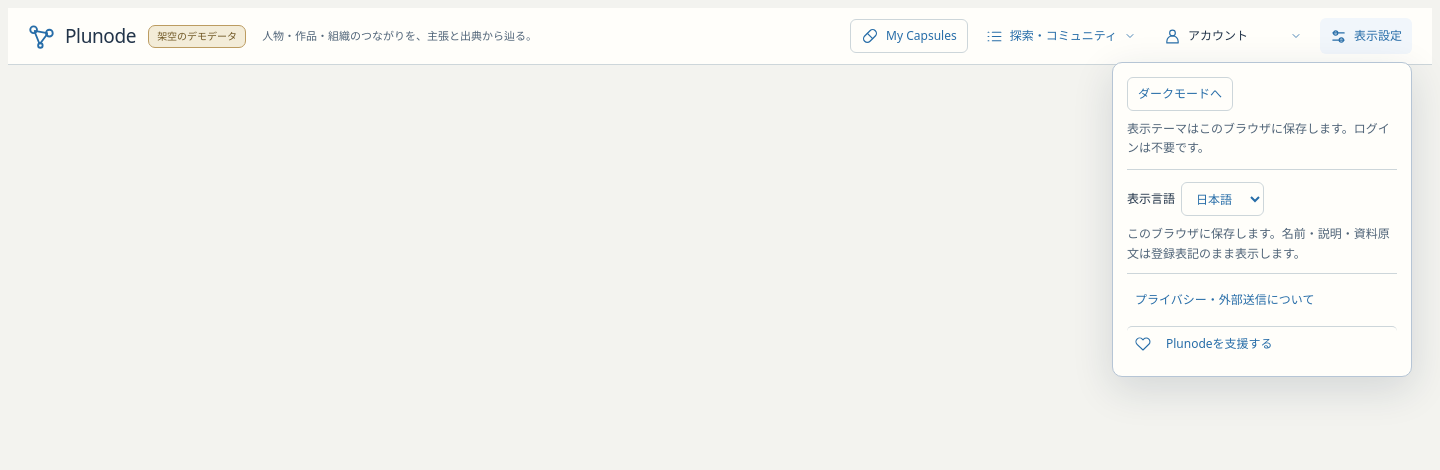
it: 表示localeと探索の分離 › 明示選択を保存し、保存不能でも画面には反映する
Select "English" in the dropdown labelled "表示言語". click: (1222, 199)
box: [1181,182,1264,216]
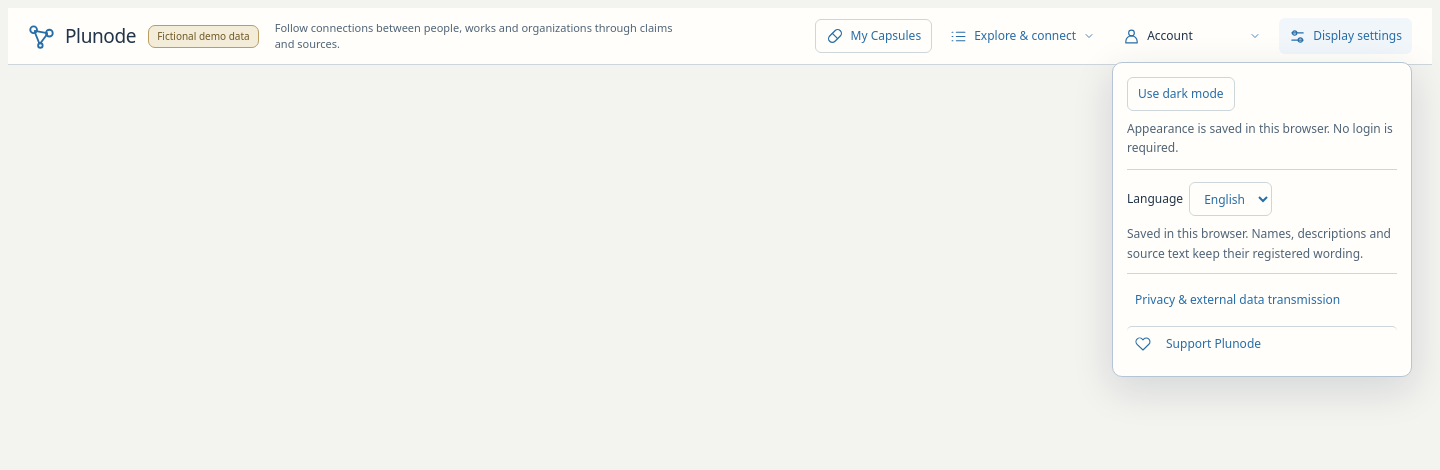
Select "日本語" in the dropdown labelled "Language". click: (1231, 199)
box: [1189,182,1272,216]
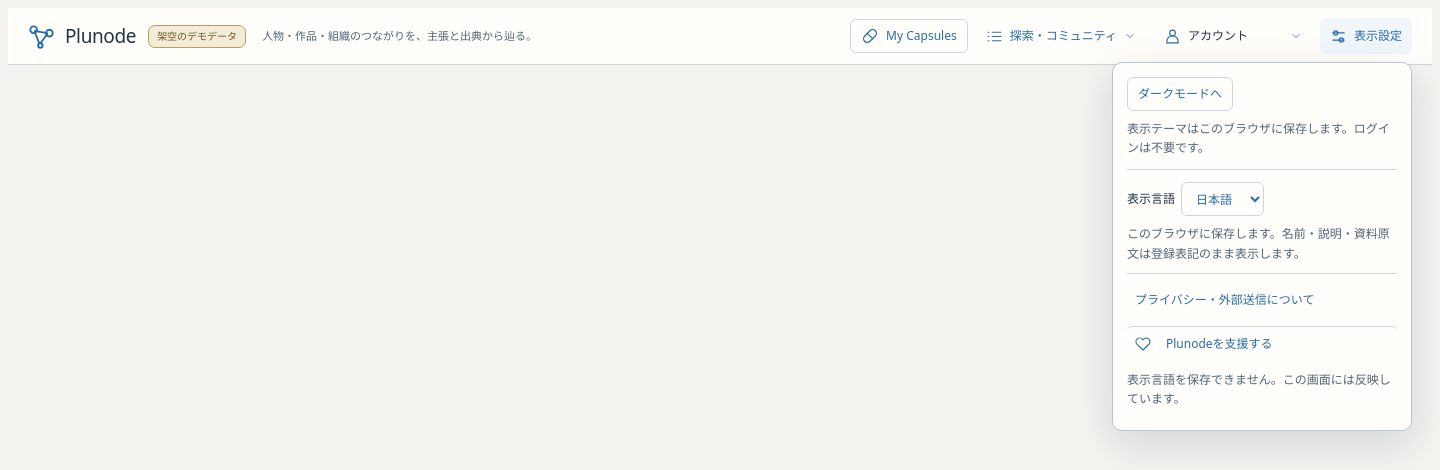
Now the text "表示言語を保存できません。この画面には反映しています。" is shown, box [1127,370,1397,408]
